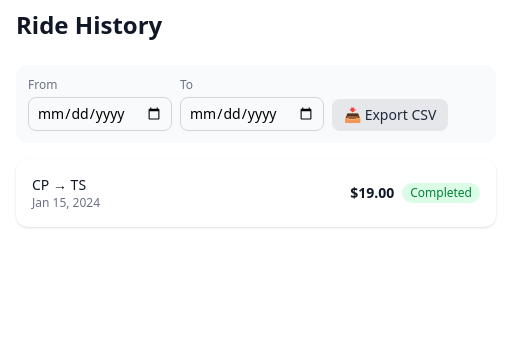
RideHistory Page › formats hours in duration
The image size is (513, 350).
Click the text "CP → TS": coordinates (59, 184) [32,175,86,194]
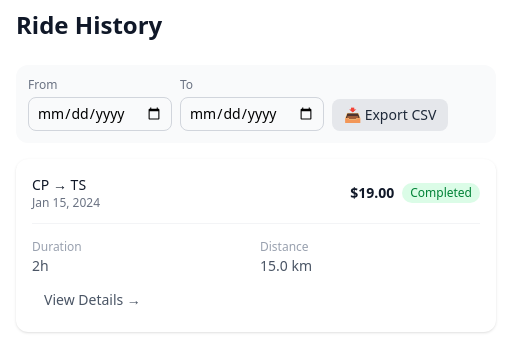
Now the text "2h" is shown, box [32,256,49,275]
